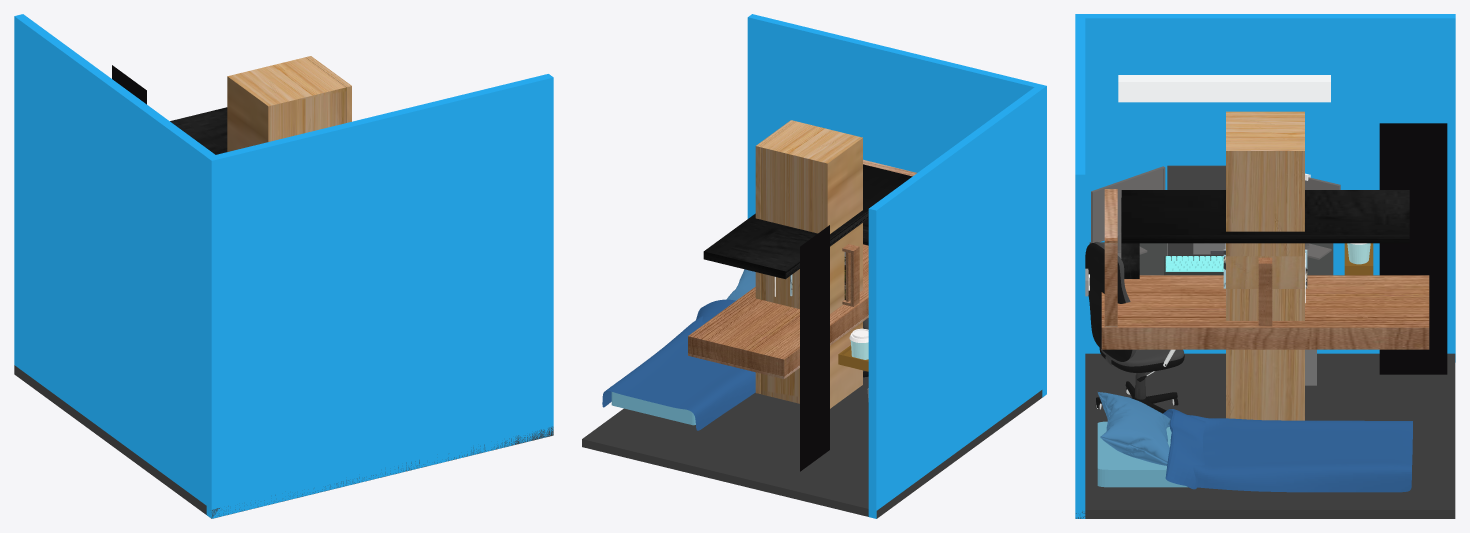
File: dream_bedroom_draco.glb
3 renders of one model, left to right at view 1: azimuth 30°, elevation 25°; view 2: azimuth 150°, elevation 25°; view 3: azimuth 270°, elevation 25°, orthographic. The views are drawn at different scales.
Visible parts, largest first — view 1: Object_4, Object_48, Object_42; view 2: Object_4, Object_48, Object_40, Object_42, Object_76; view 3: Object_4, Object_40, Object_48, Object_42, Object_76.
Part boxes in pixels (bbox=[...]): Object_4: bbox=[14, 14, 553, 518]; Object_48: bbox=[227, 56, 351, 151]; Object_42: bbox=[170, 107, 227, 154]; Object_4: bbox=[582, 14, 1046, 518]; Object_48: bbox=[755, 120, 862, 408]; Object_40: bbox=[688, 159, 916, 378]; Object_42: bbox=[703, 164, 912, 279]; Object_76: bbox=[842, 244, 859, 306]; Object_4: bbox=[1075, 14, 1455, 518]; Object_40: bbox=[1101, 189, 1429, 349]; Object_48: bbox=[1226, 111, 1304, 420]; Object_42: bbox=[1121, 190, 1409, 278]; Object_76: bbox=[1258, 257, 1272, 326].
Bounding box in the file's own units: 295626 × 286080 × 286314.
Materials: 20 (20 with a texture image).
